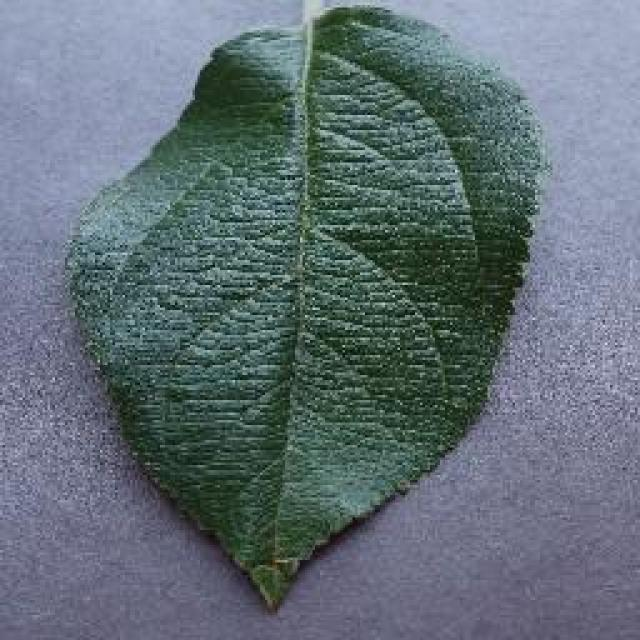apple healthy: (60, 0, 550, 612)
